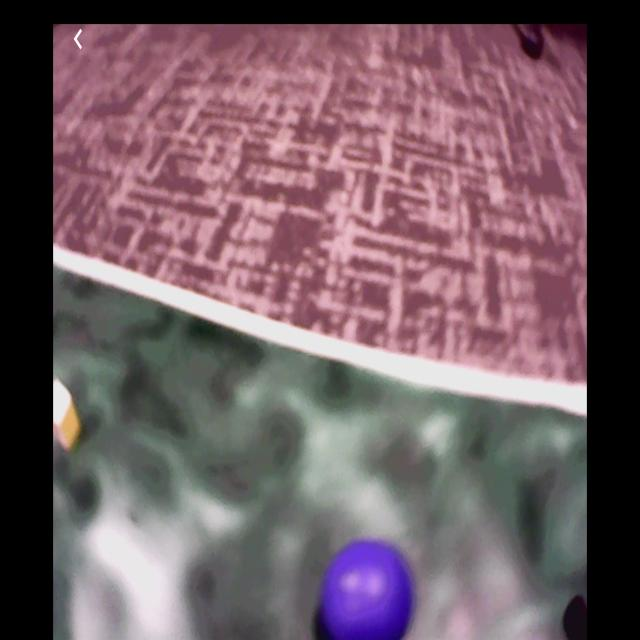ball: (321, 541, 416, 640)
